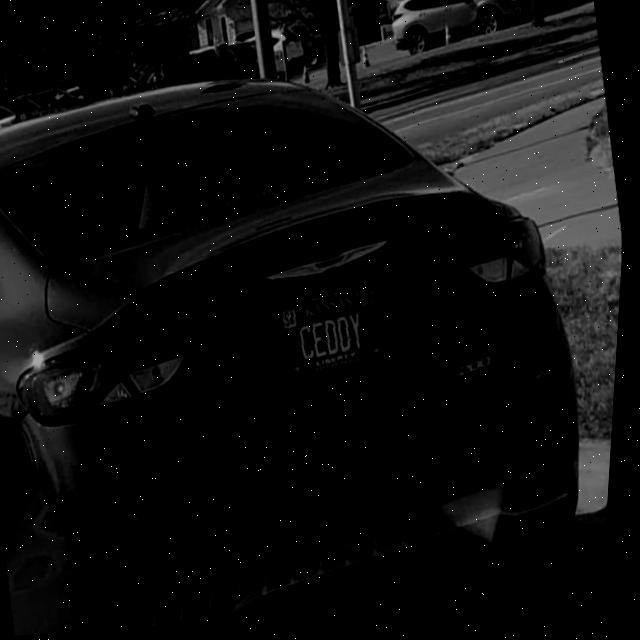LicensePlate: (277, 280, 391, 389)
